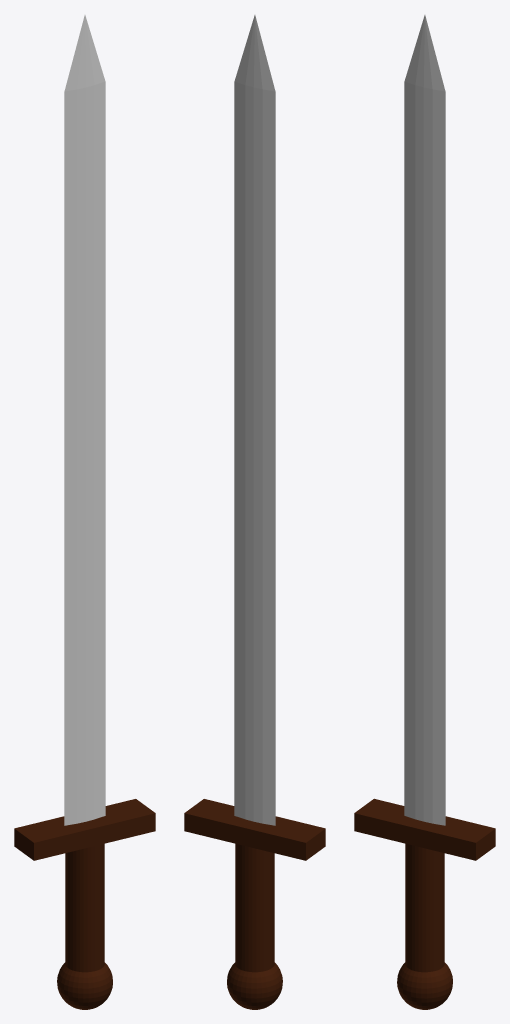
Rendered from Sword.fbx.
3 views of the same model, side by side, from view 1: azimuth 30°, elevation 25°; view 2: azimuth 150°, elevation 25°; view 3: azimuth 330°, elevation 25° (orthographic).
Parts seen in each view (by area): view 1: Blade, Hilt; view 2: Blade, Hilt; view 3: Blade, Hilt.
Boxes of the visible parts, left/top/right/bottom form: Blade: left=64, top=15, right=105, bottom=825; Hilt: left=14, top=799, right=155, bottom=1009; Blade: left=234, top=15, right=275, bottom=825; Hilt: left=184, top=799, right=325, bottom=1009; Blade: left=404, top=15, right=445, bottom=825; Hilt: left=354, top=798, right=495, bottom=1009.
Bounding box in the file's own units: 7.1 × 55.4 × 2.84.
